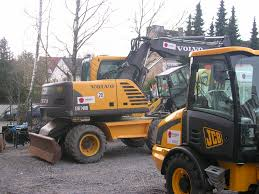excavator: (28, 35, 234, 167)
